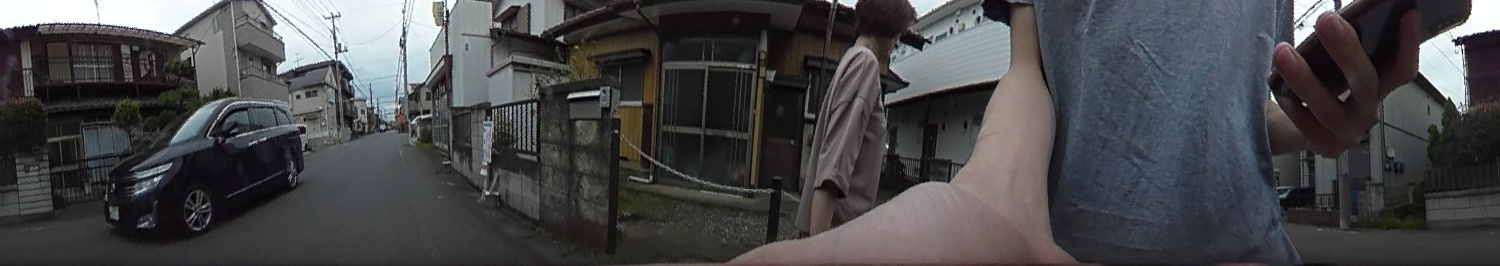person: (799, 0, 906, 252)
